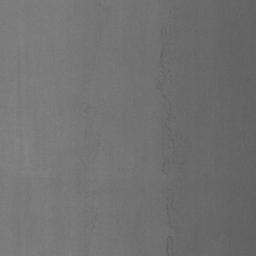Silk spot: (166, 200, 176, 228), (165, 104, 172, 132), (160, 24, 171, 37), (166, 236, 173, 256), (160, 48, 164, 68)
